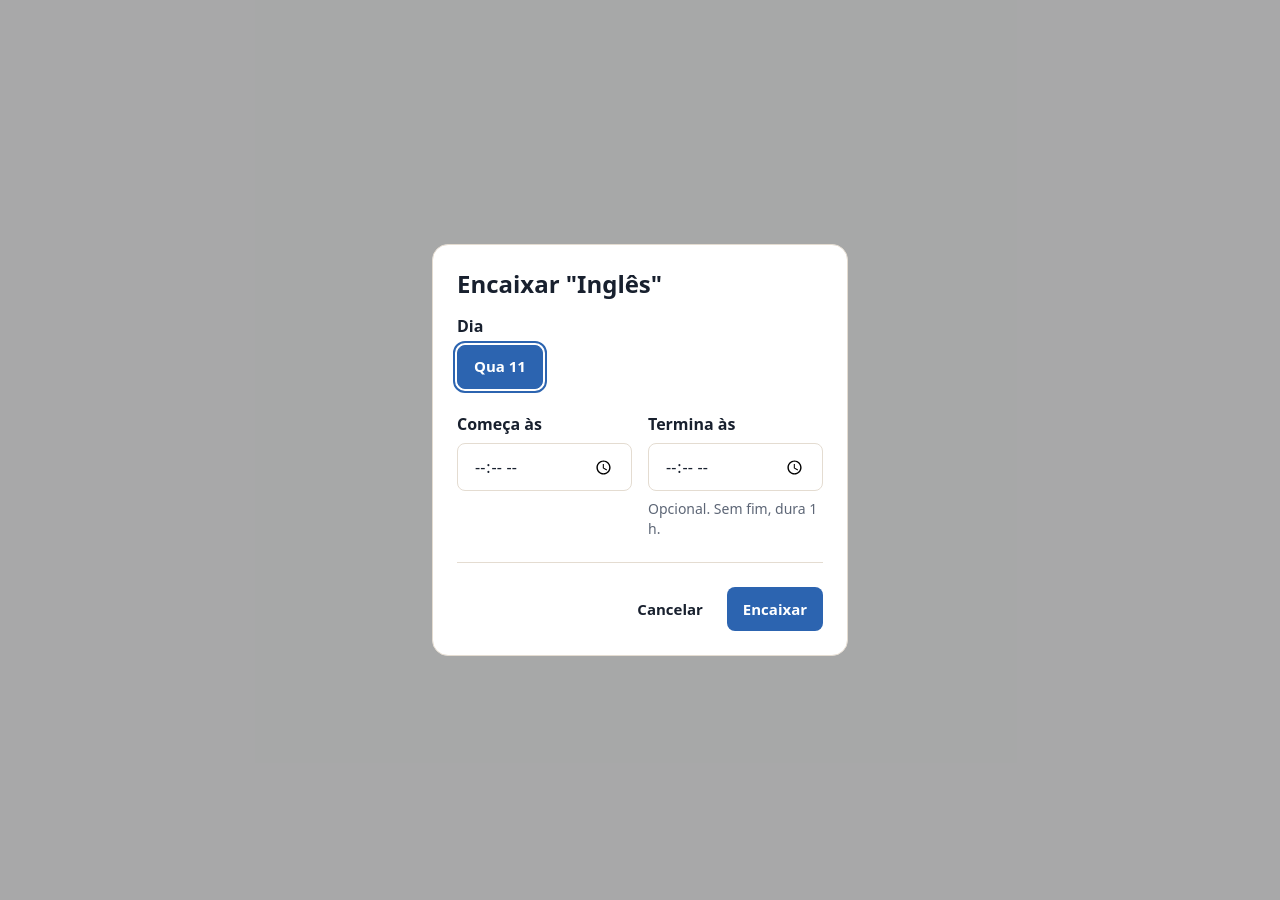
SessionDialog › mostra a mensagem da API quando o horário já tem duas coisas
In the time field labelled "Começa às": point(544, 467) [457,443,632,491], type "15:00"
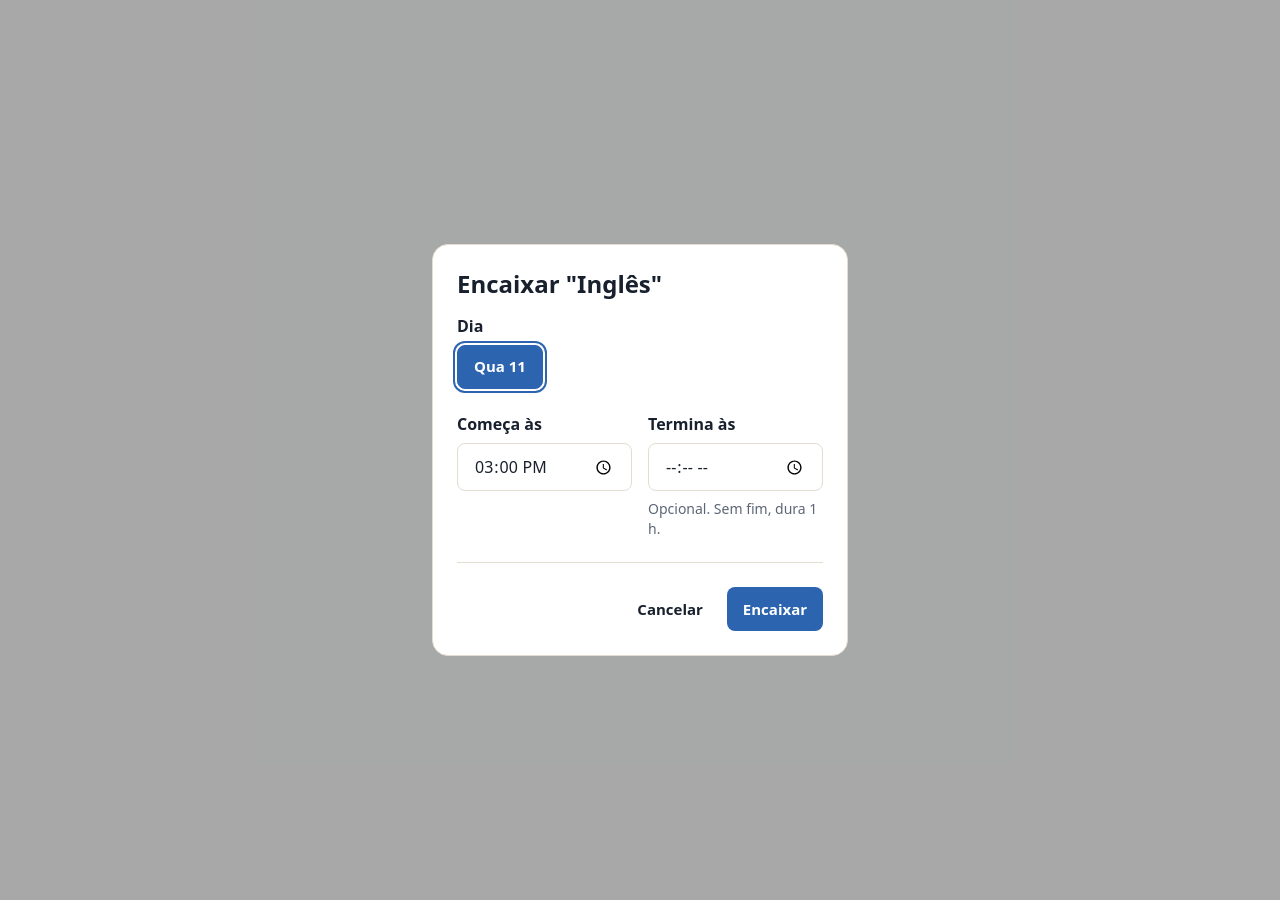
Click the button "Encaixar": point(775, 610) [727,588,823,632]
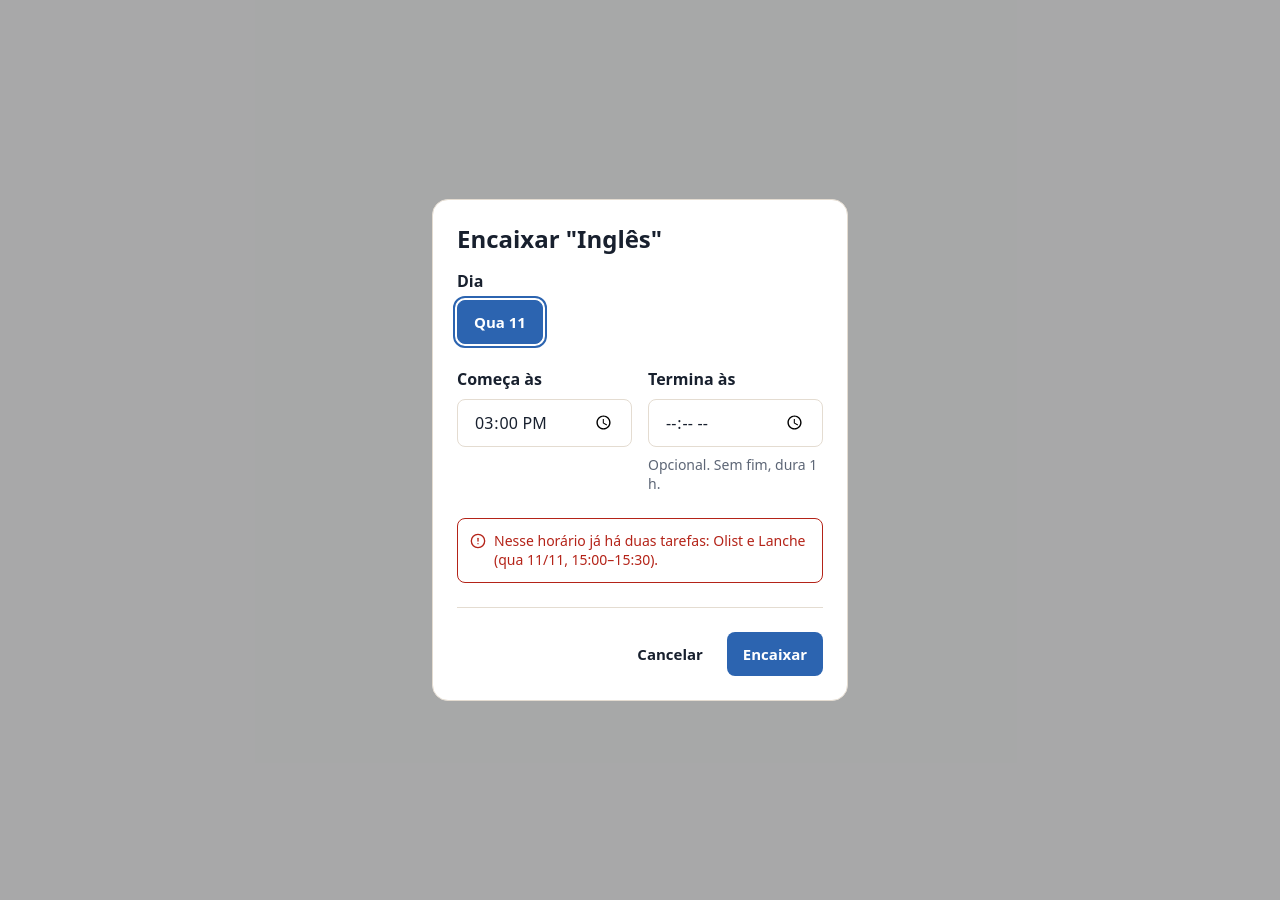
Expected: the message reads "Nesse horário já há duas tarefas: Olist e Lanche (qua 11/11, 15:00–15:30).", [494,531,806,570]
